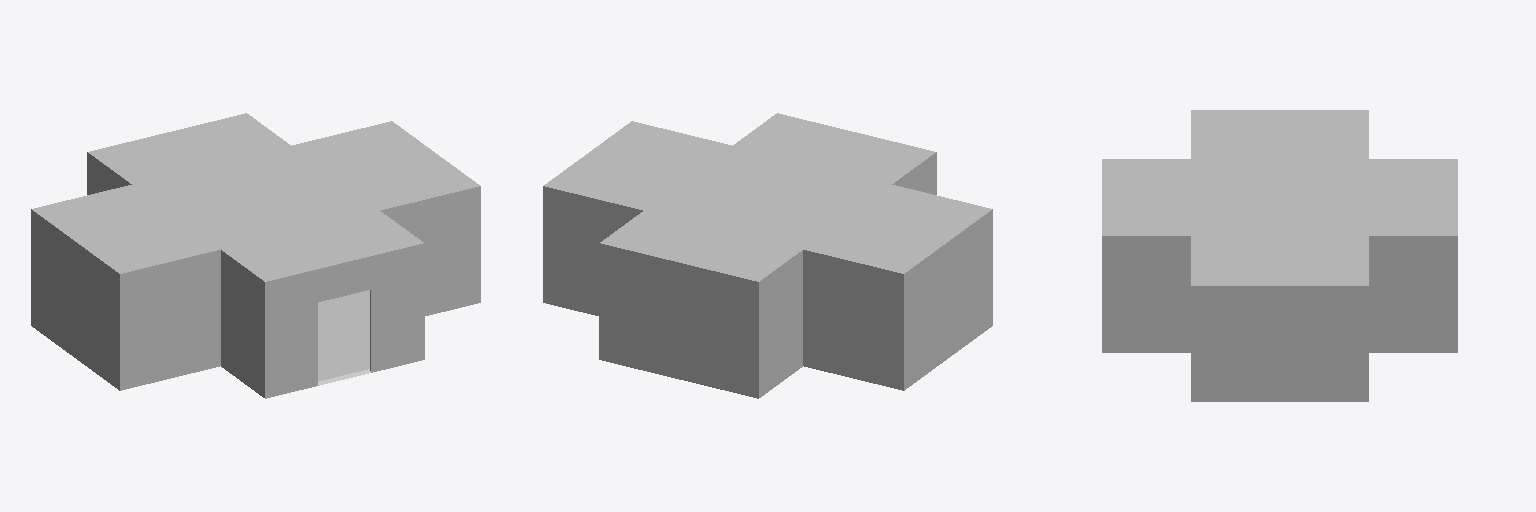
The model's file is library_collision.obj.
The picture shows the model from 3 angles: view 1: azimuth 30°, elevation 25°; view 2: azimuth 150°, elevation 25°; view 3: azimuth 270°, elevation 25°; orthographic projection.
Visible parts, largest first — view 1: Cube1; view 2: Cube1; view 3: Cube1.
Boxes of the visible parts, x1=… form: Cube1: x1=31, y1=113, x2=480, y2=398; Cube1: x1=543, y1=113, x2=992, y2=398; Cube1: x1=1102, y1=110, x2=1457, y2=401.
Bounding box in the file's own units: 14.06 × 4.35 × 11.98.